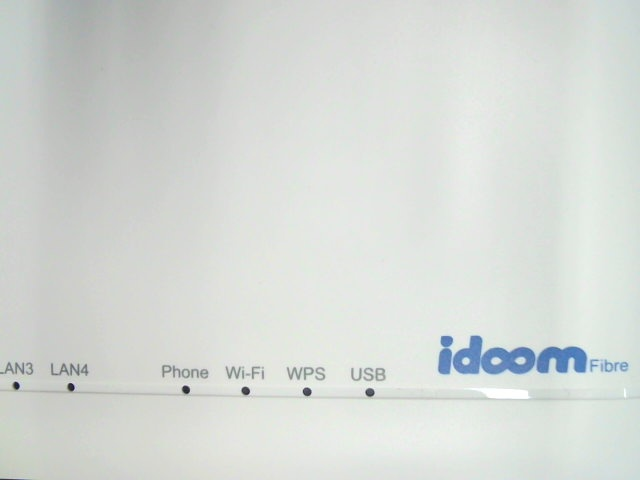BB_idoom: (429, 328, 627, 383)
